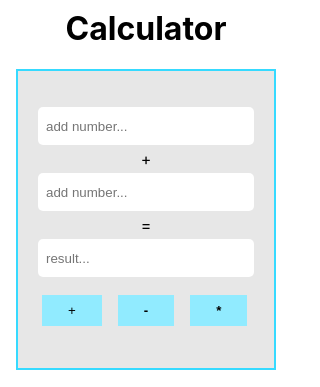
it: Calculator functionalities › Subtraction of two numbers
Type "5" into the 1st number field with placeholder "add number..." at x=146, y=126, box [38,107,254,145]
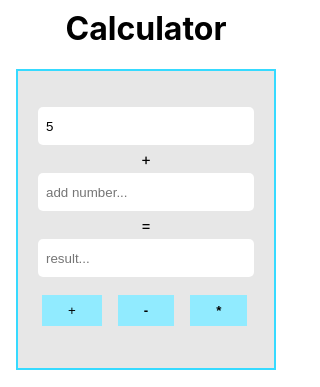
Type "3" into the number field with placeholder "add number..." at x=146, y=192, box [38,173,254,211]
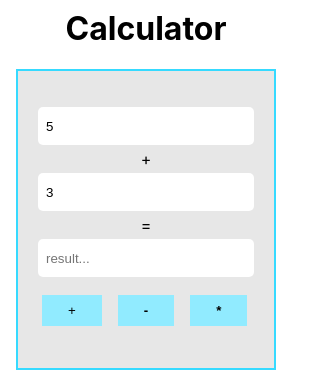
Click the button "-" at x=146, y=311, box [118,295,174,326]
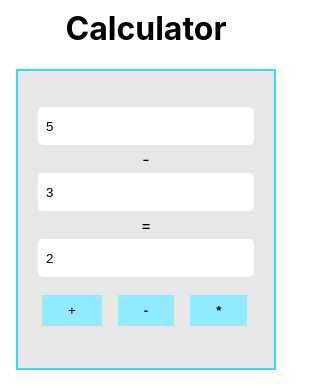
Now the field with test id "result" holds "2", box [38,239,254,277]
